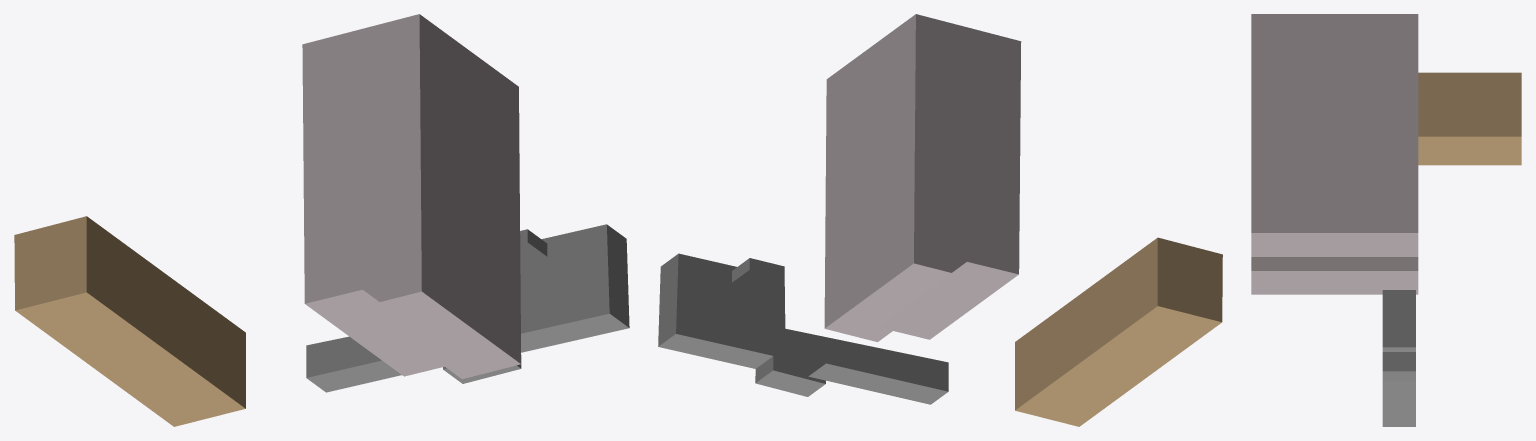
3 views of the same model, side by side, from view 1: azimuth 30°, elevation 25°; view 2: azimuth 150°, elevation 25°; view 3: azimuth 270°, elevation 25° (orthographic). The views are drawn at different scales.
Parts seen in each view (by area): view 1: 0_0_2_0_0_1_0_2_2; view 2: 0_0_2_0_0_1_0_2_2; view 3: 0_0_2_0_0_1_0_2_2.
Part boxes in pixels (x1,y1,x2,y2): 0_0_2_0_0_1_0_2_2: (14, 14, 629, 426); 0_0_2_0_0_1_0_2_2: (658, 14, 1222, 426); 0_0_2_0_0_1_0_2_2: (1251, 14, 1521, 426).
Bounding box in the file's own units: 46.37 × 29.97 × 24.3.
